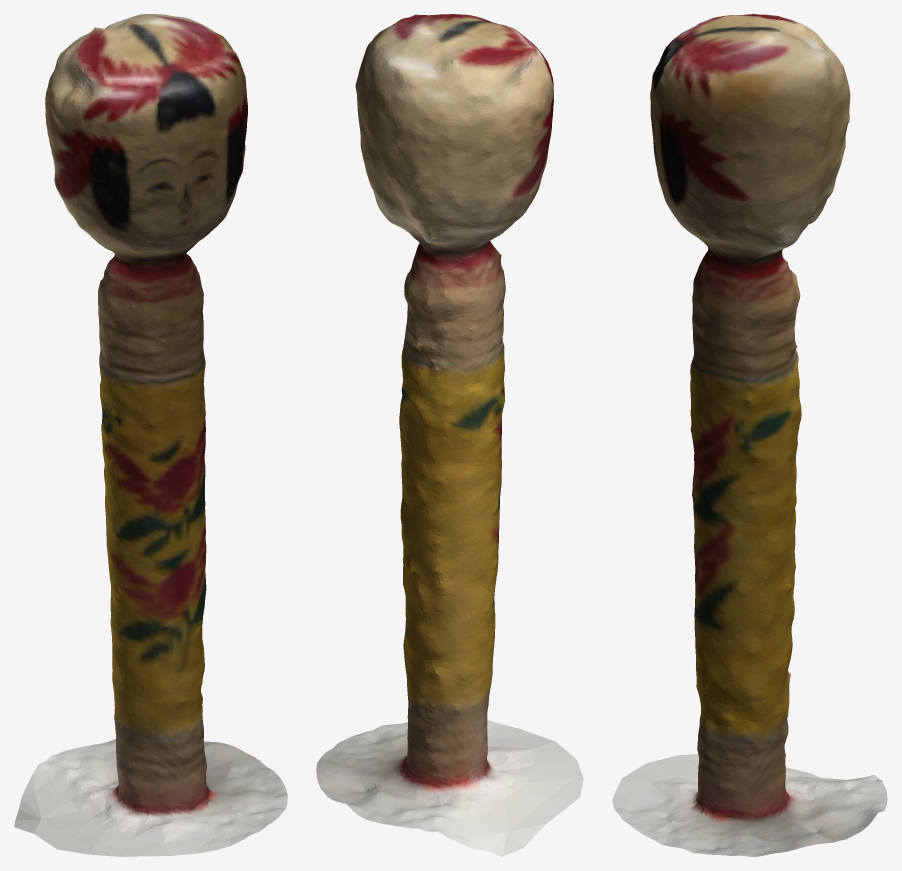
File: kokeshi003.glb
3 views of the same model, side by side, from view 1: azimuth 30°, elevation 25°; view 2: azimuth 150°, elevation 25°; view 3: azimuth 270°, elevation 25° (orthographic). The views are drawn at different scales.
Visible parts, largest first — view 1: mesh; view 2: mesh; view 3: mesh.
Boxes of the visible parts, x1,y1,x2,y2 form: mesh: (14,14,287,856); mesh: (316,14,583,856); mesh: (612,14,887,856).
Bounding box in the file's own units: 0.082 × 0.2692 × 0.0841.
1 material, 1 textured.
